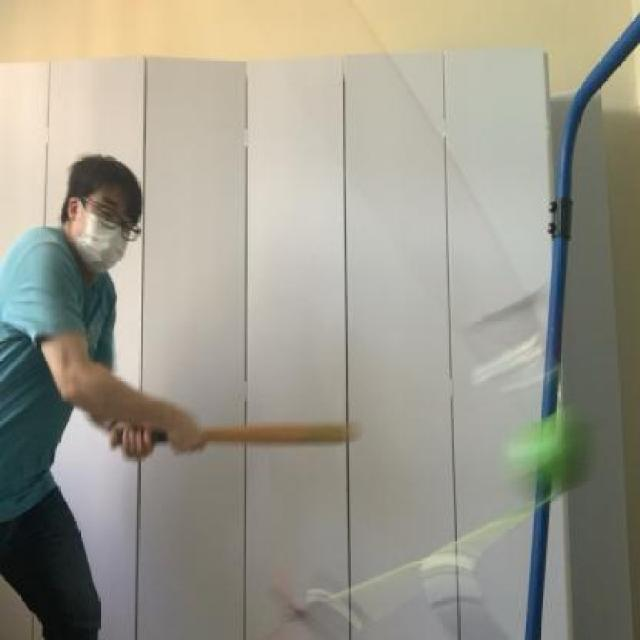baseball: (501, 395, 599, 510)
